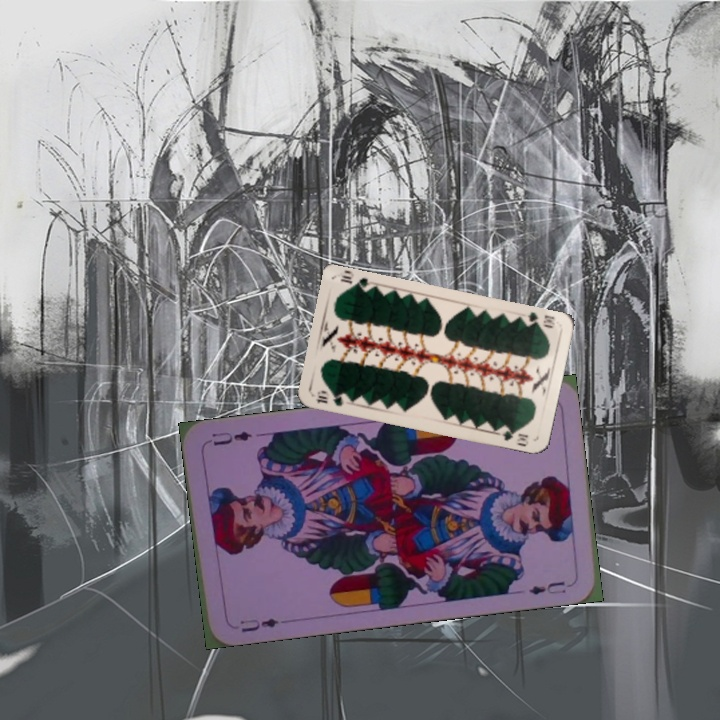EU: (236, 614, 281, 635)
G10: (519, 308, 558, 331), (313, 387, 345, 409)
